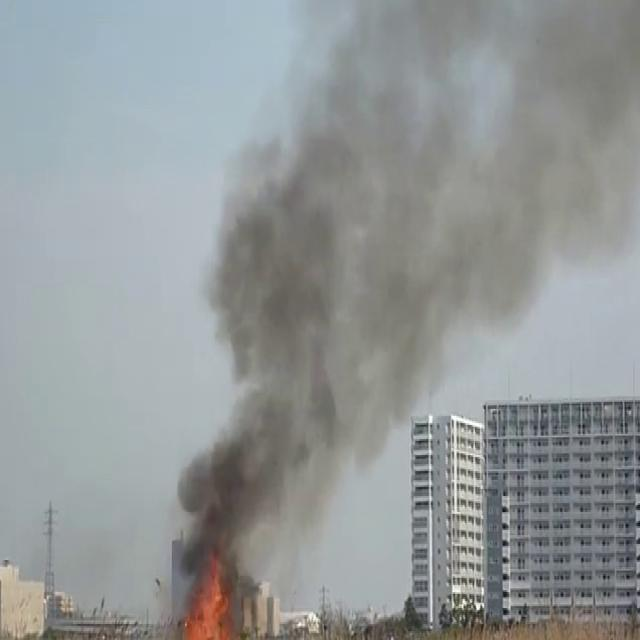Fire: (174, 563, 240, 640)
Smoke: (164, 1, 638, 598)
